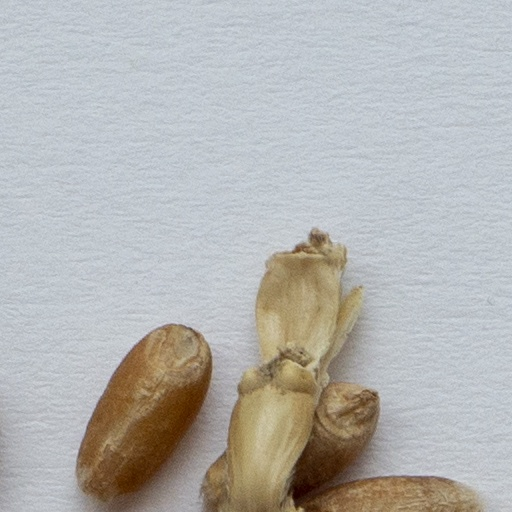Peel-poly: (207, 232, 364, 511)
